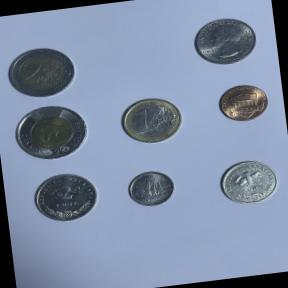1 Euro: (114, 92, 188, 149)
2 Euro: (1, 42, 81, 104)
Canda-10cent-: (122, 165, 180, 212)
Canda-2Dollar-: (9, 99, 95, 167)
Croatia-2Kune-: (28, 168, 104, 227)
US-1cent-: (213, 80, 274, 126)
US-25cent-: (188, 12, 262, 70)
